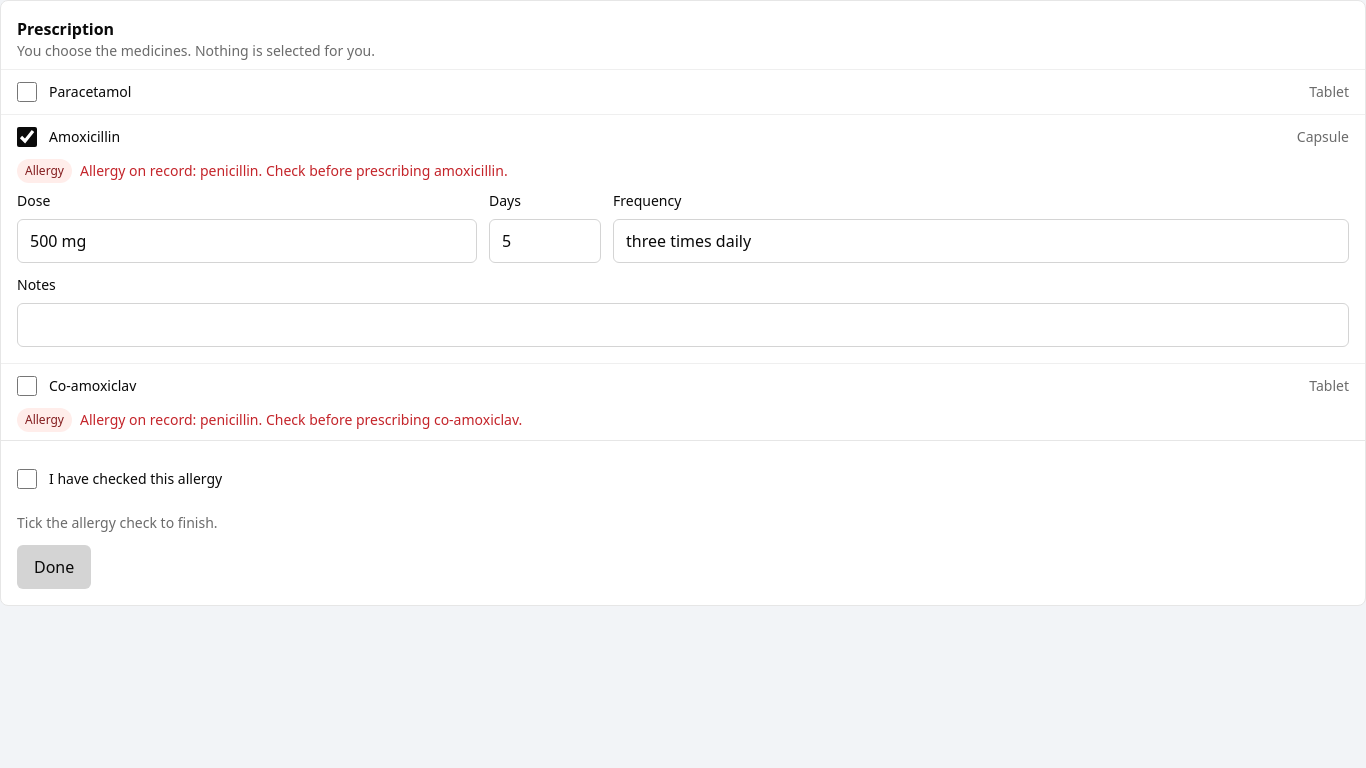
Test: the picker › forgets the tick when the warned medicine goes, or another one joins it
Earlier steps of the test are not shown.
Click the checkbox with test id "ack-allergy" at (27, 479), box left=17, top=469, right=37, bottom=489
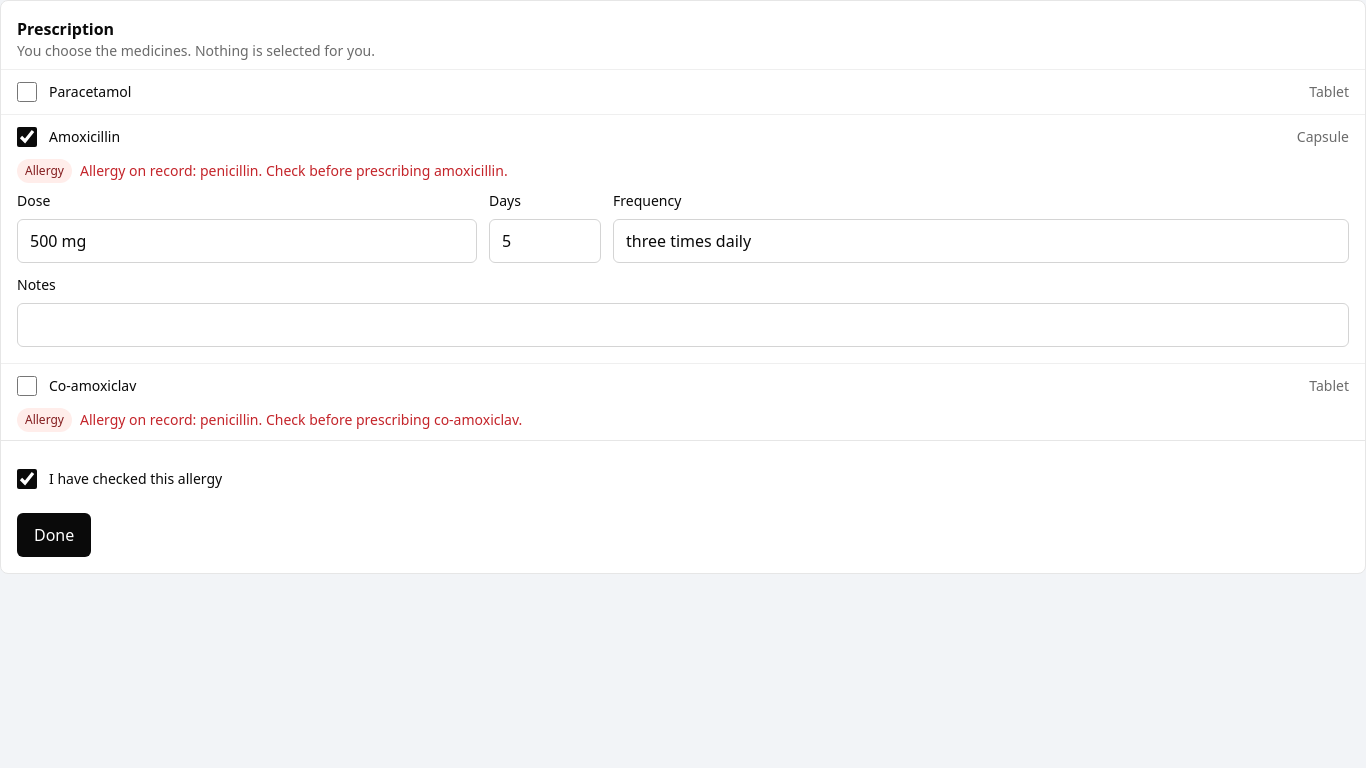
Click the checkbox with test id "drug-DR-AUGM" at (27, 386), box left=17, top=376, right=37, bottom=396
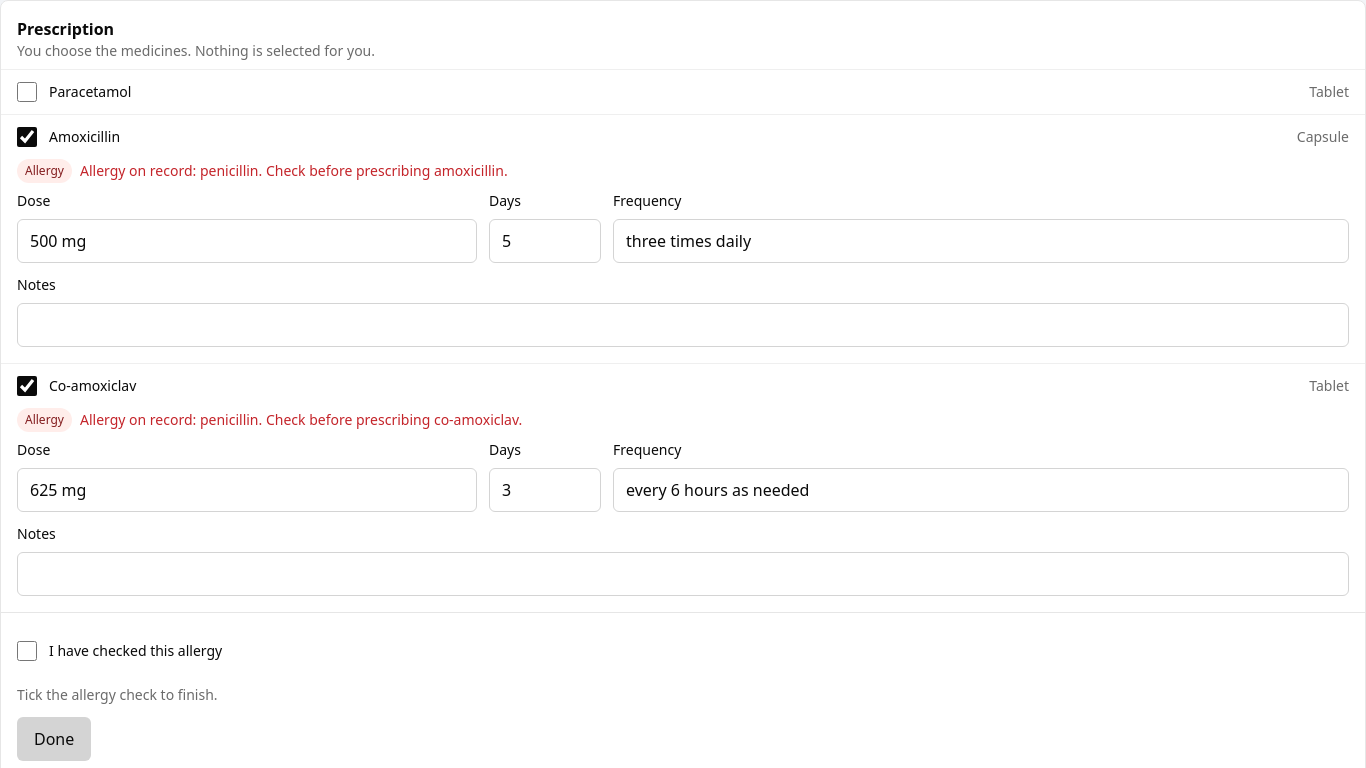
Result: the checkbox with test id "ack-allergy" is not checked
Result: the button with test id "consult-done" is disabled at left=17, top=717, right=91, bottom=761
Click the checkbox with test id "ack-allergy" at (27, 651), box left=17, top=641, right=37, bottom=661
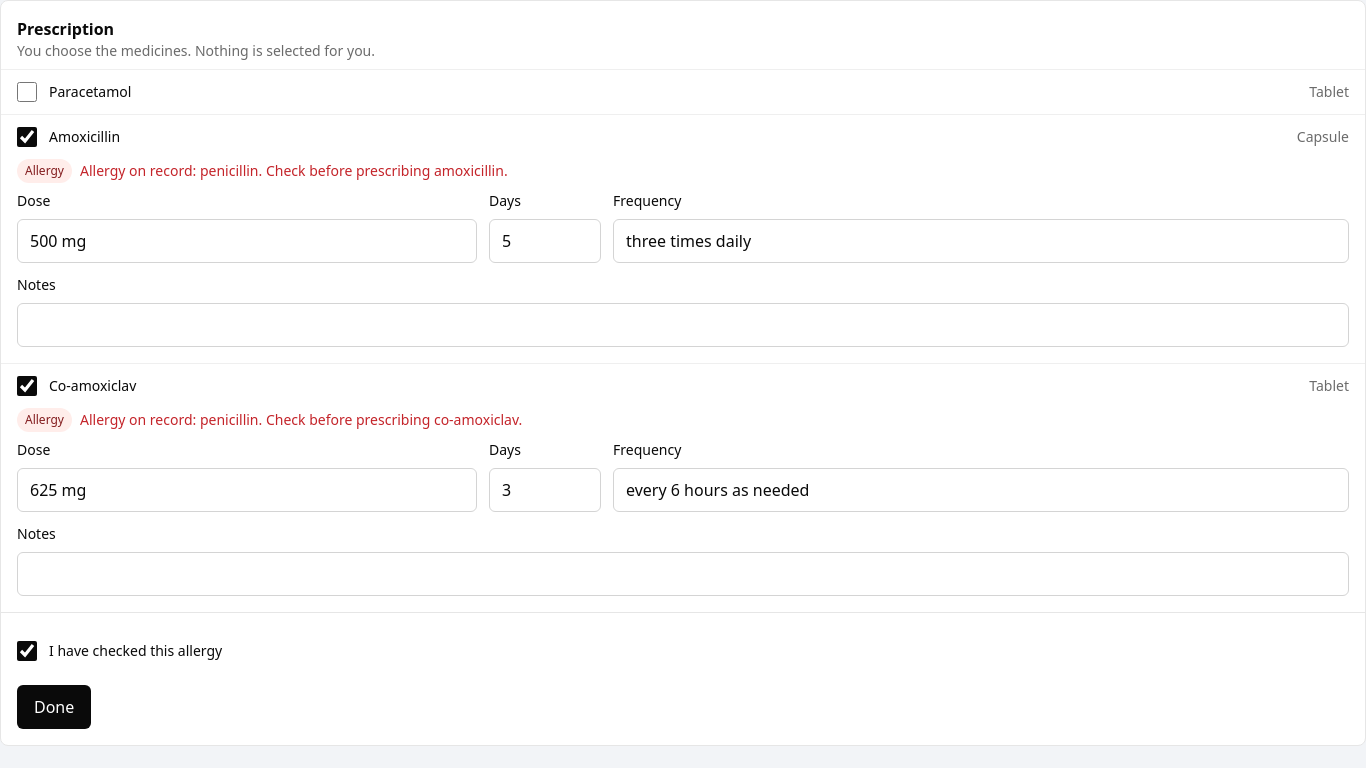
Click the checkbox with test id "drug-DR-AUGM" at (27, 386), box left=17, top=376, right=37, bottom=396
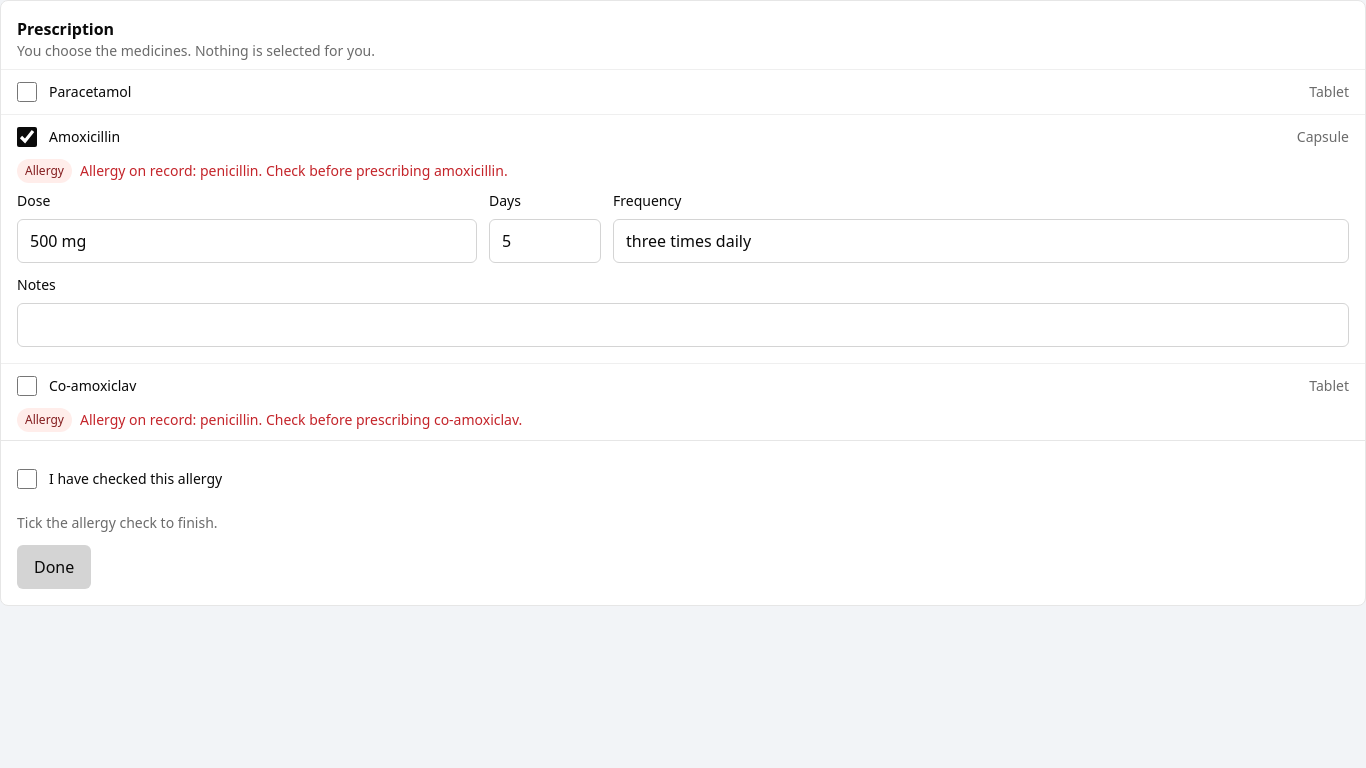
Click the checkbox with test id "drug-DR-AMOX" at (27, 137), box left=17, top=127, right=37, bottom=147
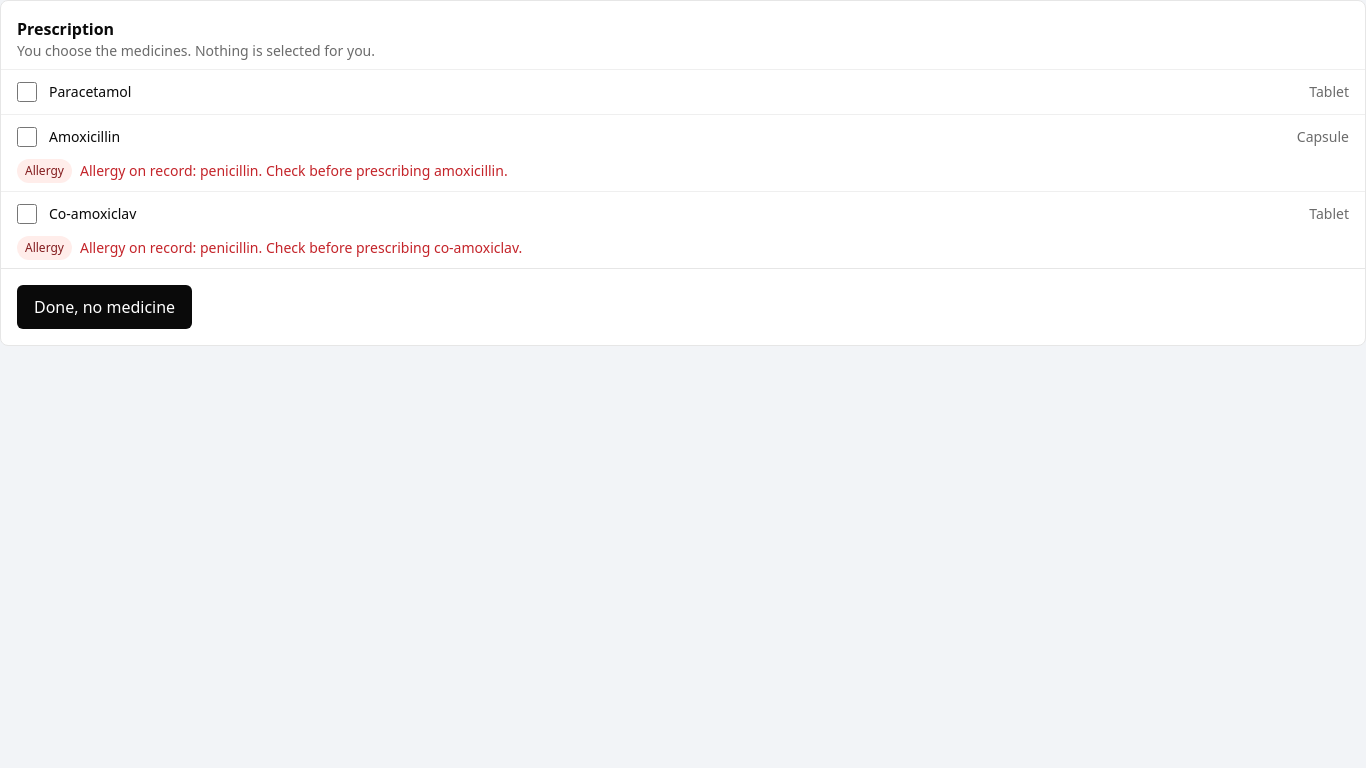
Click the checkbox with test id "drug-DR-AMOX" at (27, 137), box left=17, top=127, right=37, bottom=147
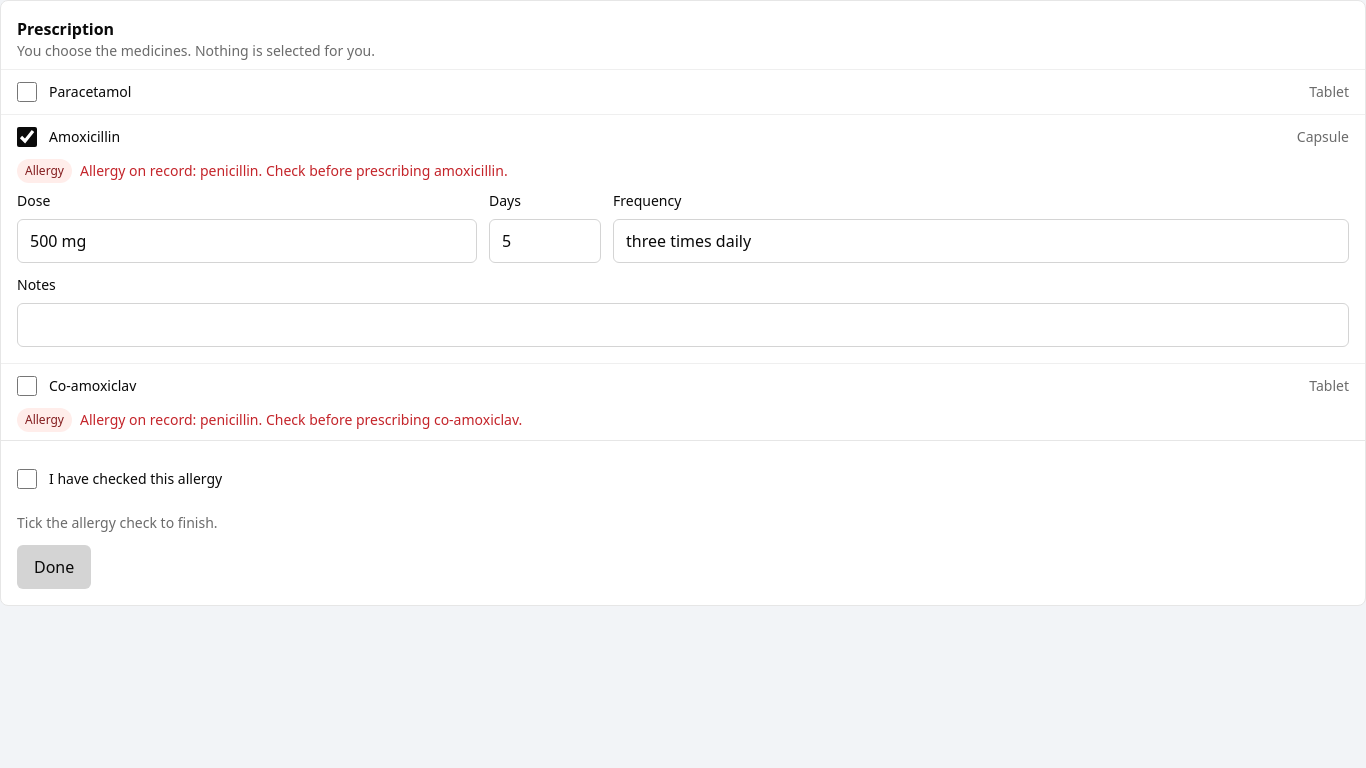
Result: the checkbox with test id "ack-allergy" is not checked at left=17, top=469, right=37, bottom=489
Result: the button with test id "consult-done" is disabled at left=17, top=545, right=91, bottom=589
